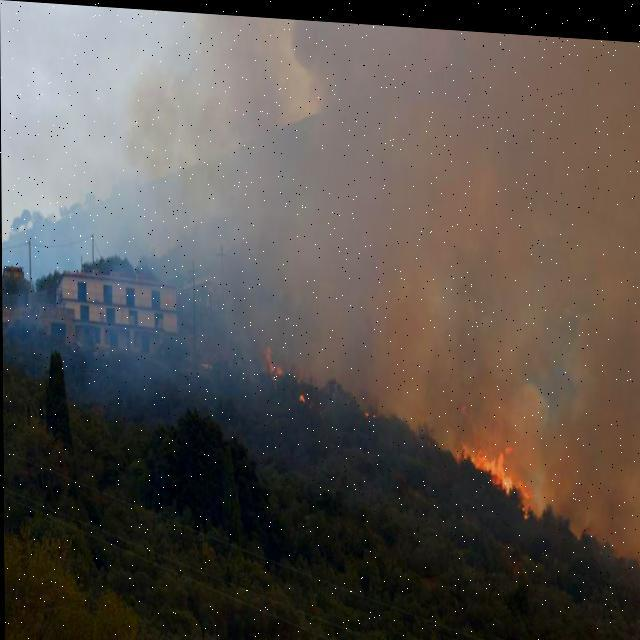Fire: (450, 408, 532, 510), (262, 344, 282, 376)
